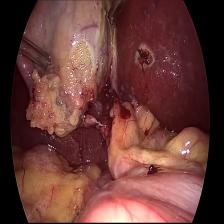Grasper: (19, 34, 53, 76)
